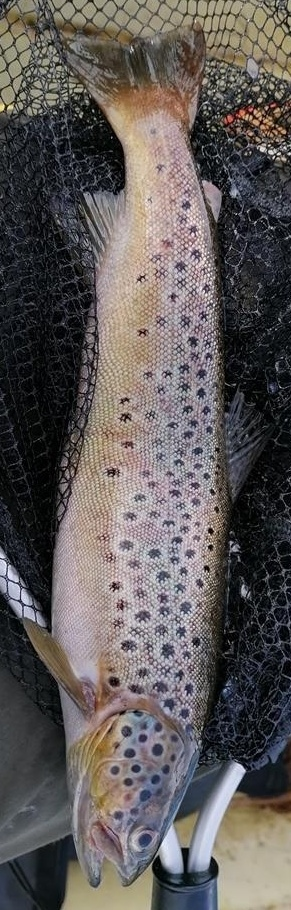Salmo trutta subsp. fario: (20, 20, 271, 890)
